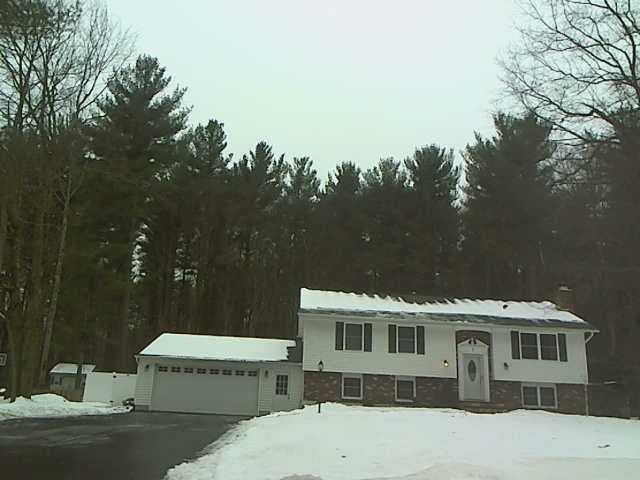Ploughed: (9, 410, 255, 473)
